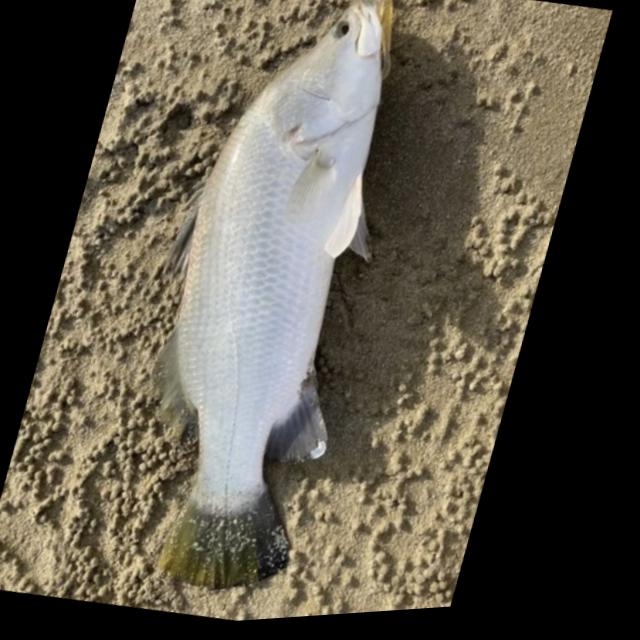Seabass: (78, 0, 450, 613)
